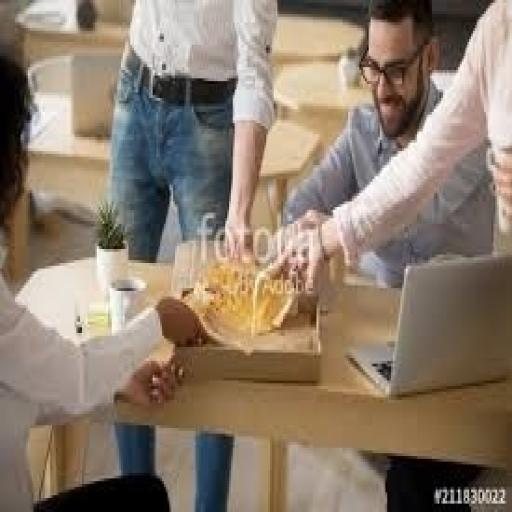eating: (0, 50, 207, 510), (106, 0, 279, 509), (272, 0, 508, 291)
